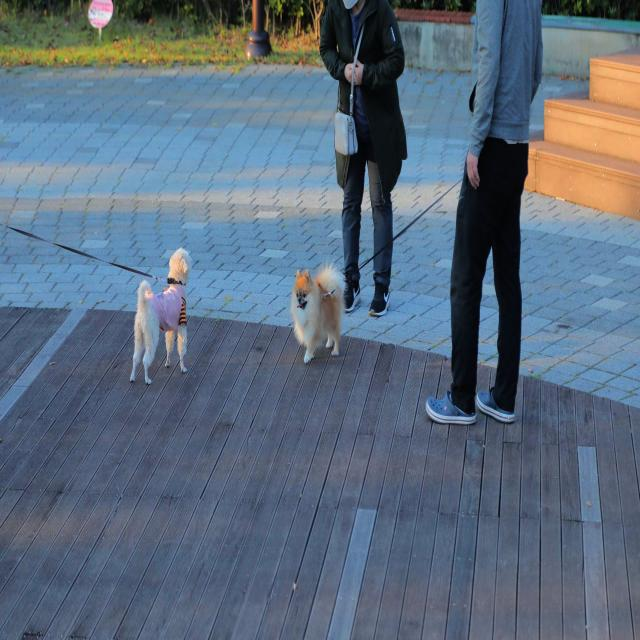Dog: (129, 246, 194, 386)
Leashed_Dog: (290, 140, 491, 365)
